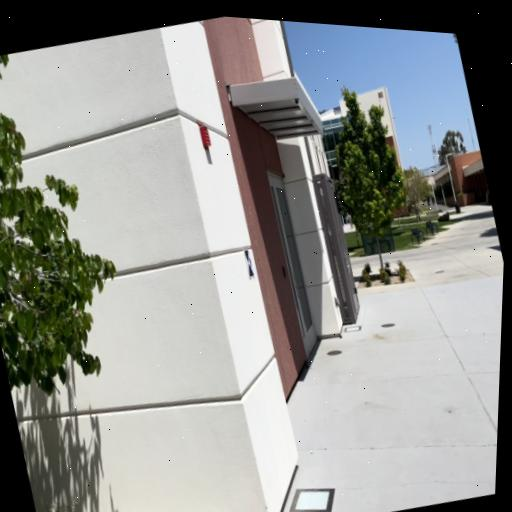target9: (245, 249, 255, 278)
